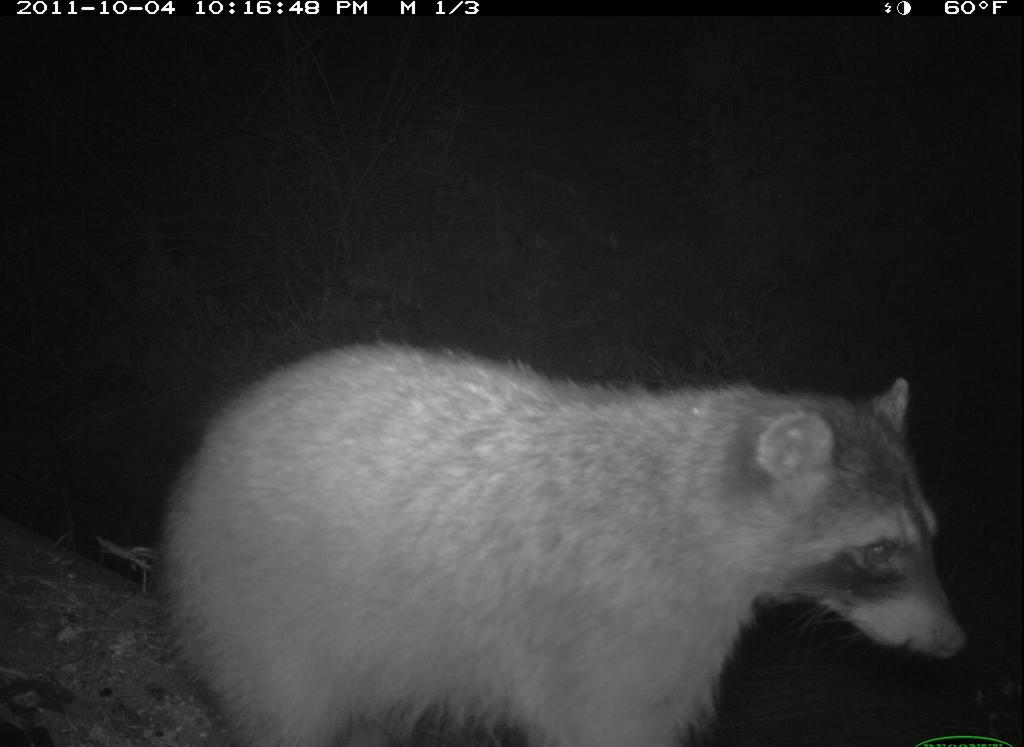raccoon: (89, 329, 976, 743)
